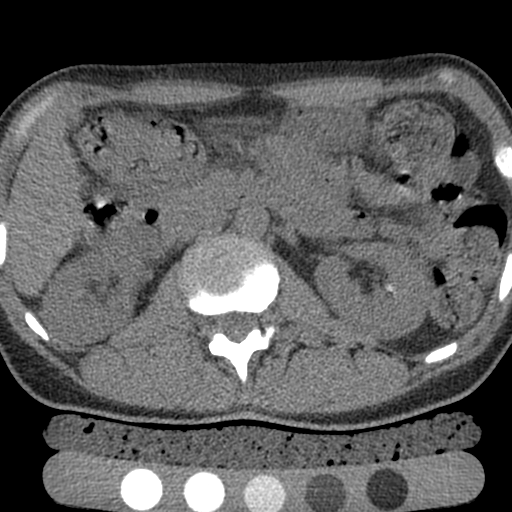Lesion: (383, 281, 395, 295)
